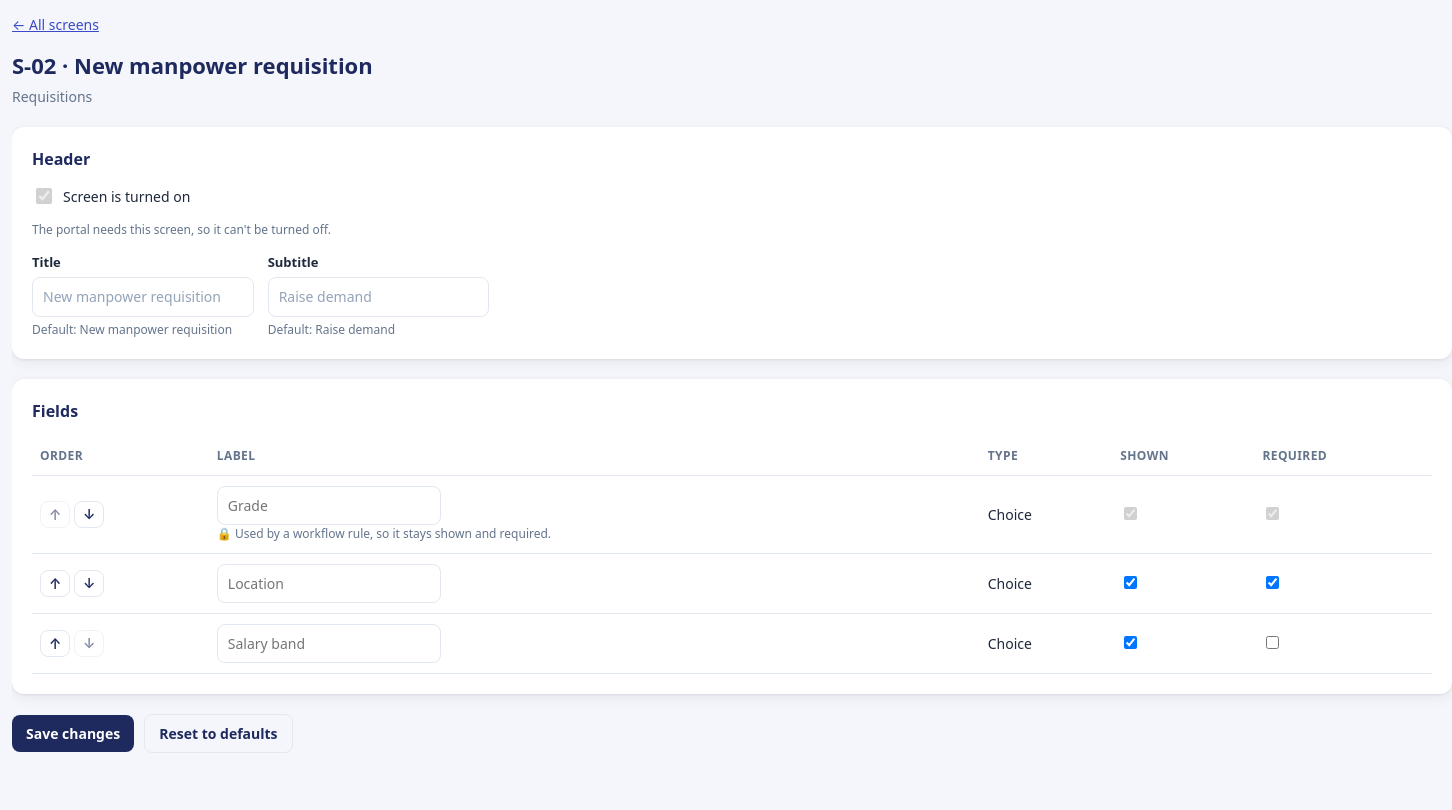
Test: ScreenEditorPage › makes a field optional when it is hidden
Click the checkbox named "Show Location" at (1131, 582), box left=1124, top=576, right=1137, bottom=588
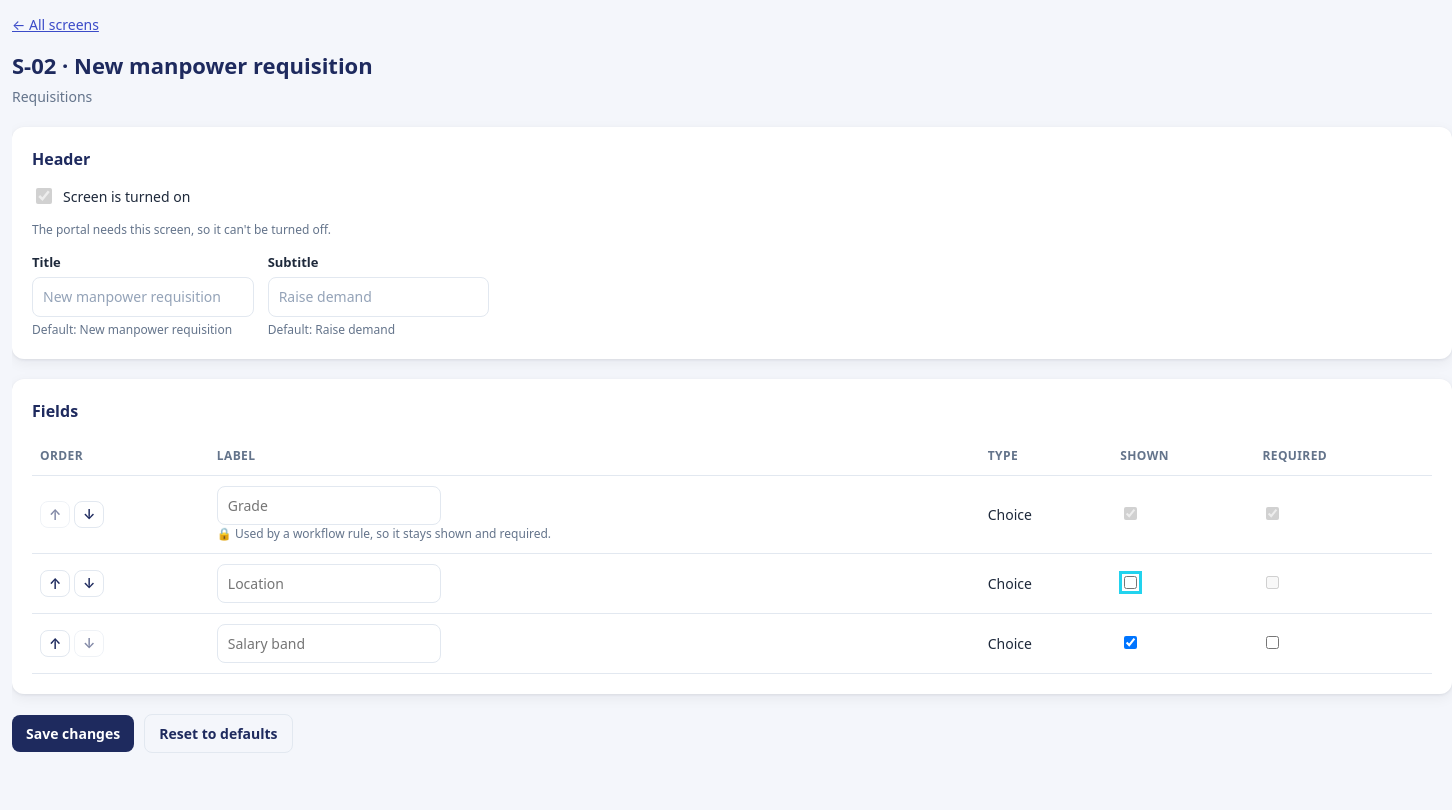
Expected: the checkbox named "Location is required" is not checked, left=1266, top=576, right=1279, bottom=588
Expected: the checkbox named "Location is required" is disabled, left=1266, top=576, right=1279, bottom=588
